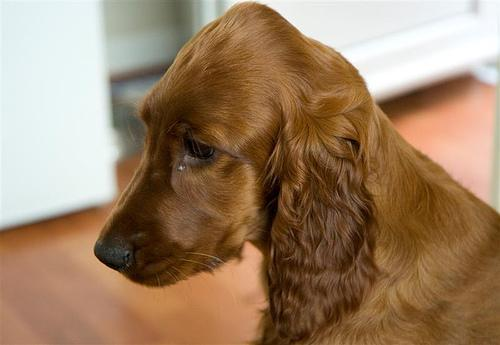Irish_setter: (93, 2, 499, 344)
